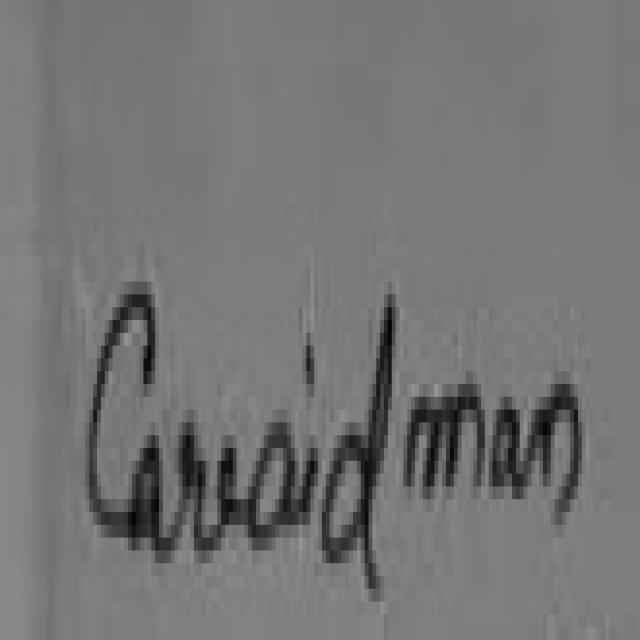C: (89, 294, 155, 538)
a: (250, 422, 297, 555), (490, 394, 531, 504), (132, 435, 163, 550)
d: (322, 293, 397, 589)
e: (217, 448, 246, 527)
i: (299, 448, 318, 525), (306, 333, 318, 397)
m: (407, 384, 485, 493)
n: (531, 384, 582, 525)
r: (159, 422, 227, 563)
